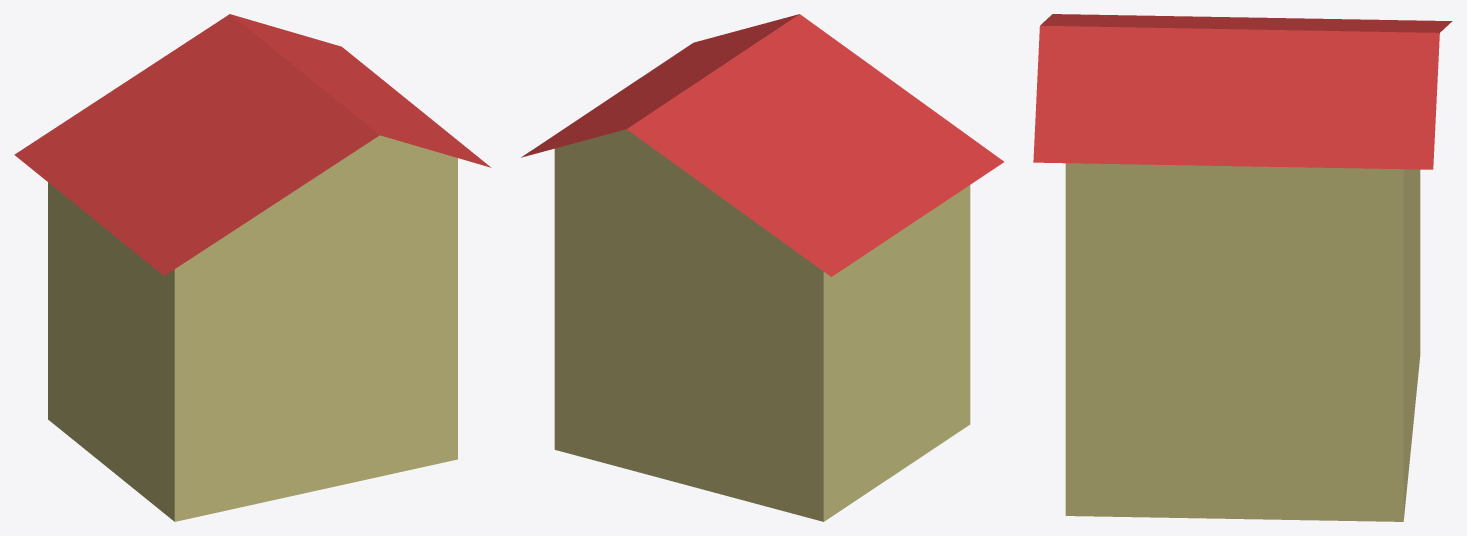
The picture shows the model from 3 angles, left to right: view 1: azimuth 30°, elevation 25°; view 2: azimuth 150°, elevation 25°; view 3: azimuth 270°, elevation 25°; orthographic projection. The views are drawn at different scales.
Size of the model in its own units: 7.65 by 6.78 by 7.79.
